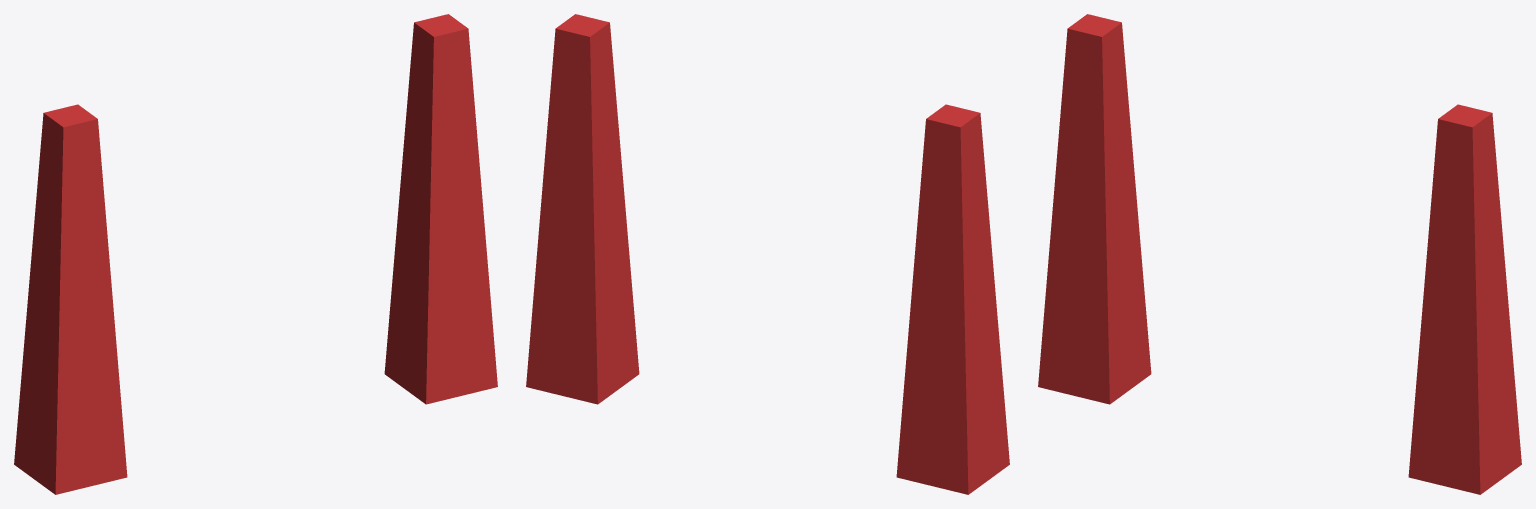
The model's file is powerUpModel.fbx.
The picture shows the model from 3 angles, left to right: view 1: azimuth 30°, elevation 25°; view 2: azimuth 150°, elevation 25°; view 3: azimuth 330°, elevation 25°; orthographic projection.
Visible parts, largest first — view 1: pCube3; view 2: pCube3; view 3: pCube3.
Boxes of the visible parts, x1,y1,x2,y2 form: pCube3: (14, 14, 497, 494); pCube3: (526, 14, 1009, 494); pCube3: (1038, 14, 1521, 494).
Size of the model in its own units: 6.15 by 4.72 by 1.
